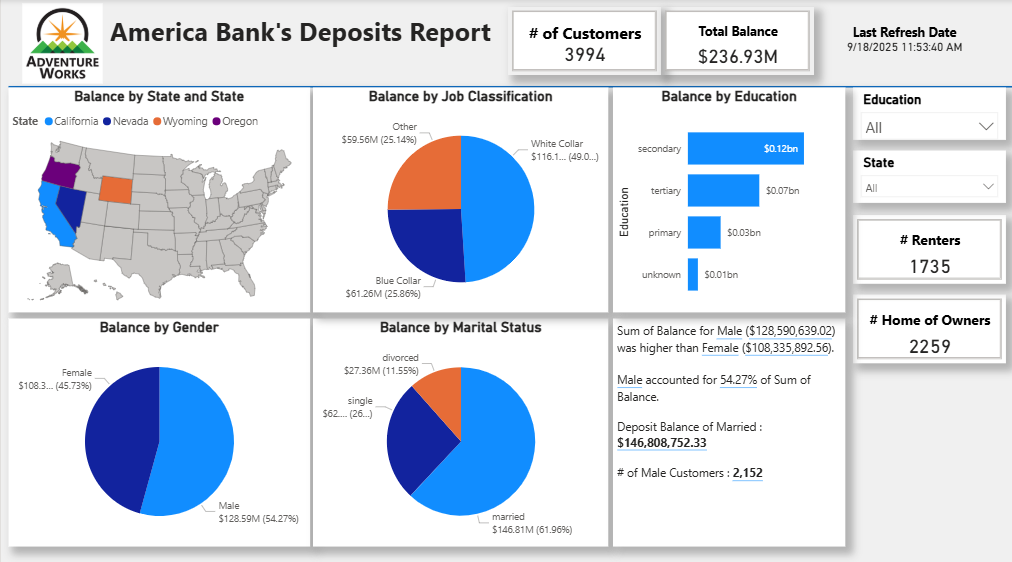

The dashboard page shown, as its layout file describes it:
{"tool":"powerbi","page":{"name":"Main Dashboard","canvas":[1280,720],"ordinal":0},"visuals":[{"type":"shape","box":[9.4,69.9,1269.9,81.3],"z":0},{"type":"image","box":[9.4,0,136.1,111.5],"z":1000},{"type":"textbox","box":[132.3,13.2,370.4,86.9],"z":2000},{"type":"cardVisual","fields":{"Data":["Min(LastRefreshDate.LastRefresh)"]},"box":[997.8,13.2,281.6,68],"z":3000},{"type":"cardVisual","title":"# of Customers","fields":{"Data":["CountNonNull(AmericaBankNew.Customer ID)"]},"box":[617.3,9.4,192.8,86.9],"z":4000},{"type":"cardVisual","title":"# of Customers","fields":{"Data":["Sum(AmericaBankNew.Balance)"]},"box":[830.9,9.4,192.8,86.9],"z":5000},{"type":"shapeMap","title":"Balance by State and State","fields":{"Category":["AmericaBankNew.State"],"Series":["AmericaBankNew.State"],"Value":["Sum(AmericaBankNew.Balance)"]},"box":[9.4,111.5,379.8,283.5],"z":6000},{"type":"pieChart","title":"Balance by Gender","fields":{"Category":["AmericaBankNew.Gender"],"Y":["Sum(AmericaBankNew.Balance)"]},"box":[9.4,402.5,379.8,287.2],"z":7000},{"type":"pieChart","title":"Balance by Marital Status","fields":{"Y":["Sum(AmericaBankNew.Balance)"],"Category":["AmericaBankNew.Marital Status"]},"box":[393.1,402.5,372.3,287.2],"z":8000},{"type":"pieChart","title":"Balance by Job Classification","fields":{"Y":["Sum(AmericaBankNew.Balance)"],"Category":["AmericaBankNew.Job Classification"]},"box":[393.1,111.5,372.3,283.5],"z":9000},{"type":"cardVisual","title":"# of Customers","fields":{"Data":["CountNonNull(AmericaBankNew.Customer ID)"]},"box":[1073.4,372.3,192.8,86.9],"z":10000},{"type":"cardVisual","title":"# of Customers","fields":{"Data":["CountNonNull(AmericaBankNew.Customer ID)"]},"box":[1073.4,271.5,192.8,86.9],"z":11000},{"type":"textbox","box":[771,402.5,292.9,287.2],"z":12000},{"type":"slicer","fields":{"Values":["AmericaBankNew.Education"]},"box":[1073.4,111.5,192.8,66.1],"z":13000},{"type":"slicer","fields":{"Values":["AmericaBankNew.State"]},"box":[1073.4,191.5,192.8,66.1],"z":14000},{"type":"barChart","title":"Balance by Education","fields":{"Category":["AmericaBankNew.Education"],"Y":["Sum(AmericaBankNew.Balance)"]},"box":[771,111.5,292.9,283.5],"z":14001}]}

Visuals, with their boxes in screenshot pixels (x1, y1, x2, y2), scaled from the page's 1280x720 canvas onto the 1012x562 screenshot:
shape: Rect(7, 55, 1011, 118)
image: Rect(7, 0, 115, 87)
textbox: Rect(105, 10, 397, 78)
cardVisual - Min(LastRefreshDate.LastRefresh): Rect(789, 10, 1011, 63)
"# of Customers" cardVisual: Rect(488, 7, 640, 75)
"# of Customers" cardVisual: Rect(657, 7, 809, 75)
"Balance by State and State" shapeMap: Rect(7, 87, 308, 308)
"Balance by Gender" pieChart: Rect(7, 314, 308, 538)
"Balance by Marital Status" pieChart: Rect(311, 314, 605, 538)
"Balance by Job Classification" pieChart: Rect(311, 87, 605, 308)
"# of Customers" cardVisual: Rect(849, 291, 1001, 358)
"# of Customers" cardVisual: Rect(849, 212, 1001, 280)
textbox: Rect(610, 314, 841, 538)
slicer - AmericaBankNew.Education: Rect(849, 87, 1001, 139)
slicer - AmericaBankNew.State: Rect(849, 149, 1001, 201)
"Balance by Education" barChart: Rect(610, 87, 841, 308)
